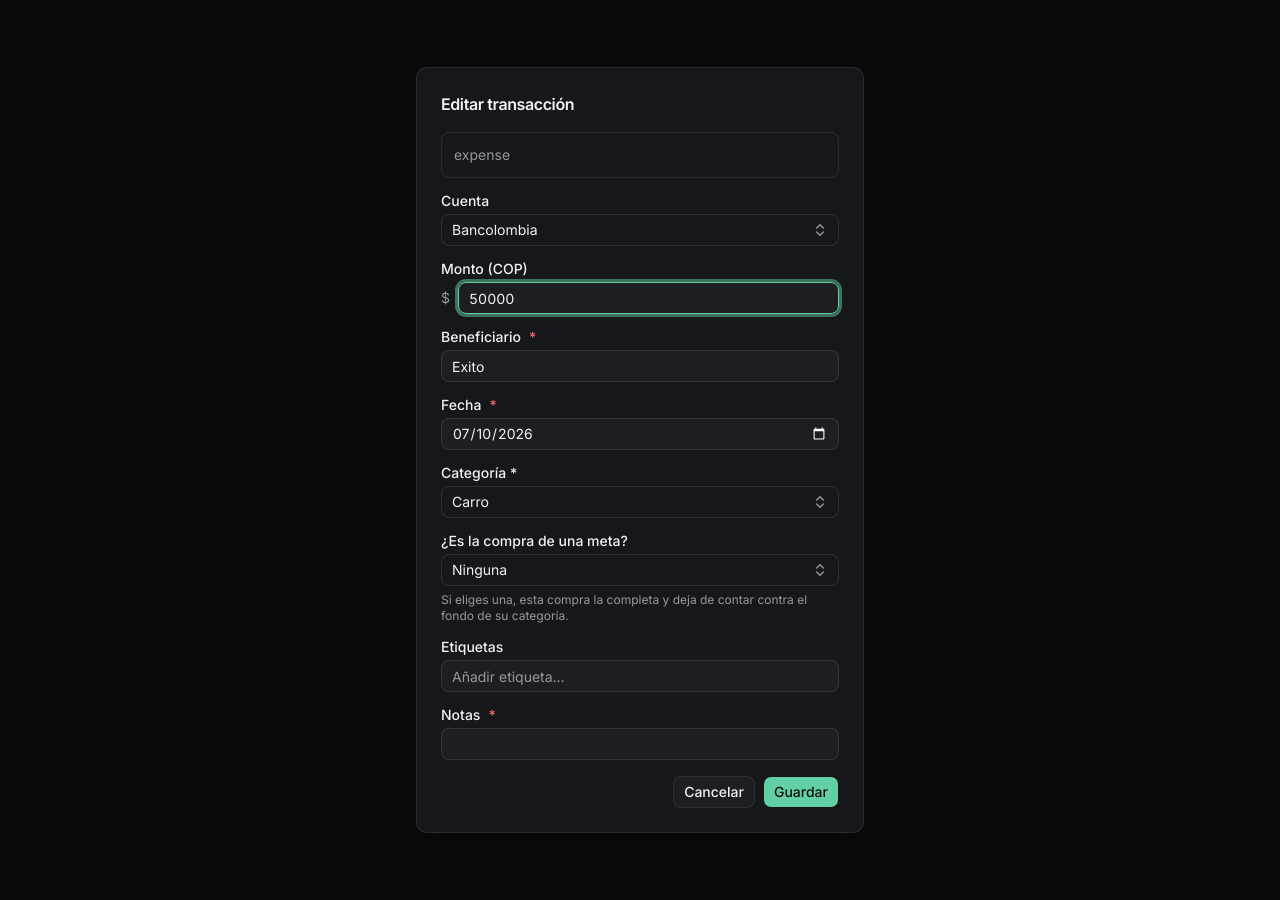
Test: 015 — refiling a payment that settles a charge › Refiling a settling payment says first what it stops settling
The width and height of the screenshot is (1280, 900).
Click the dropdown named "Categoría *" at [471, 502], box [441,486,839,518]
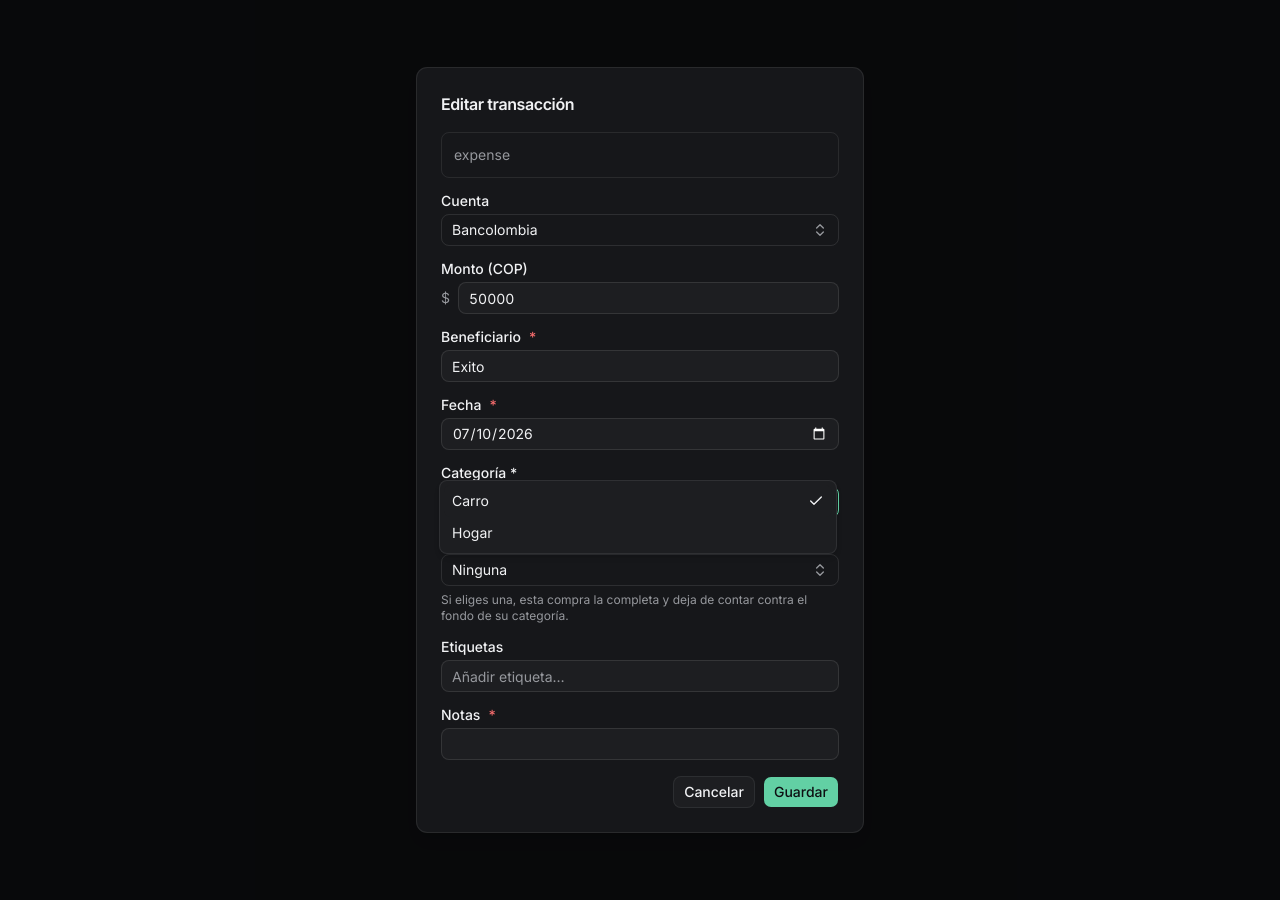
Click the option "Hogar" at [472, 532], box [452,524,492,541]
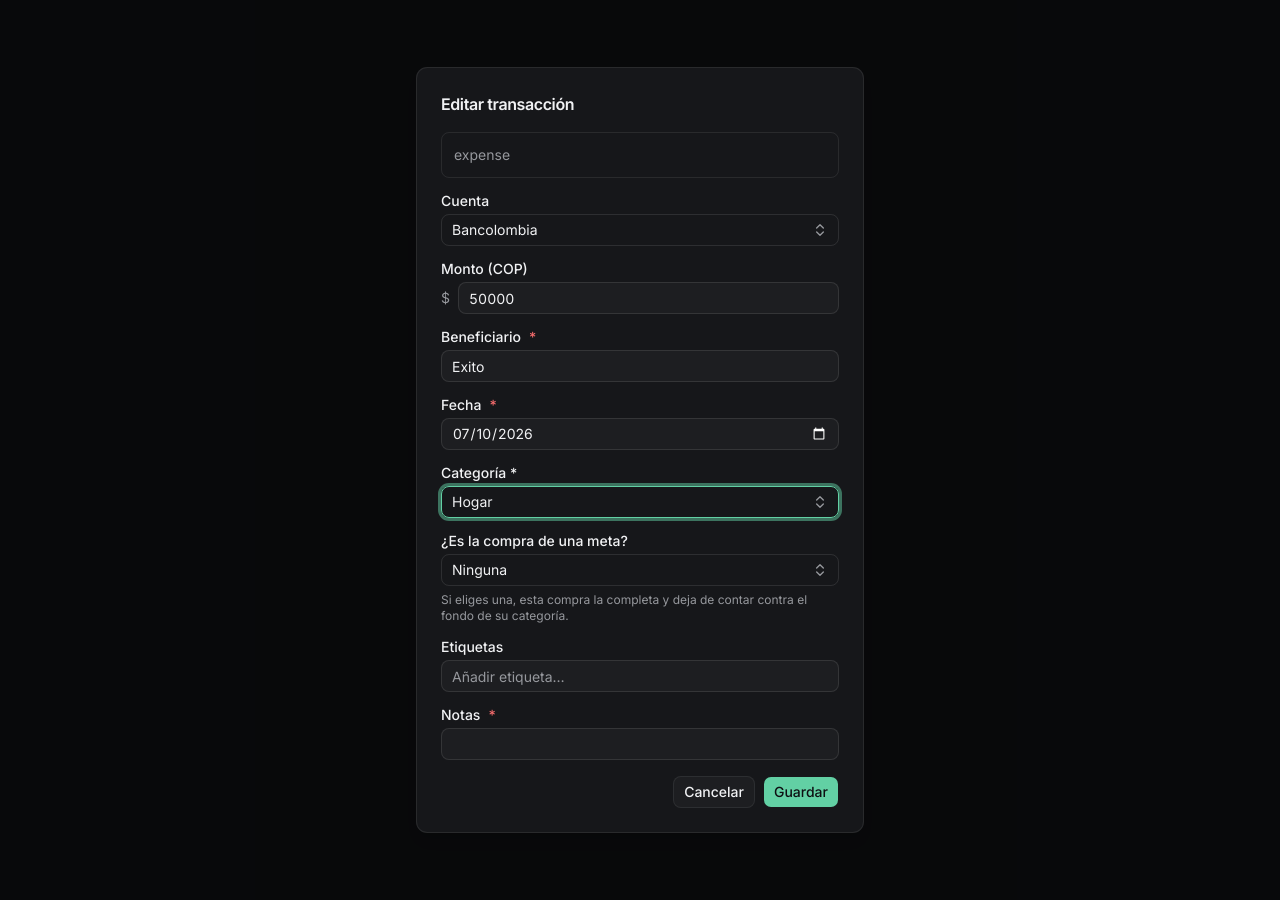
Click the button "Guardar" at [801, 792], box [763,776,839,808]
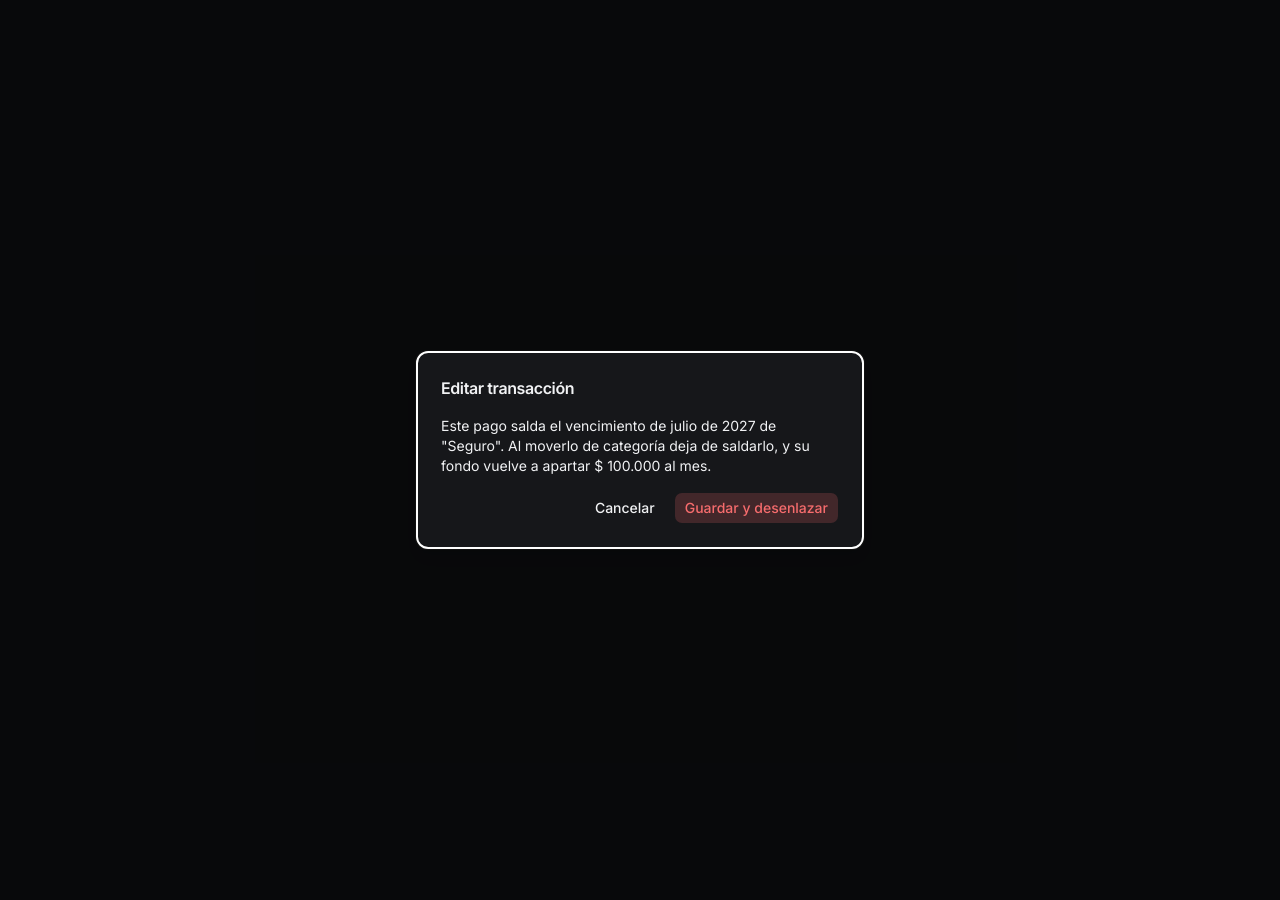
Check: the text "deja de saldarlo" shows "Seguro", box [441,417,810,474]
Check: the text "deja de saldarlo" shows "julio de 2027", box [441,417,810,474]
Check: the text "deja de saldarlo" shows "100.000", box [441,417,810,474]
